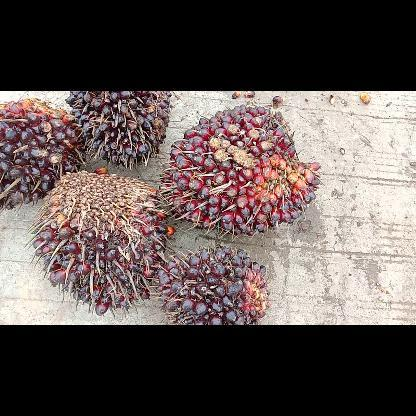TBS mentah: (160, 104, 320, 237), (26, 172, 168, 318), (0, 98, 89, 214), (148, 246, 268, 324), (64, 90, 170, 170)
